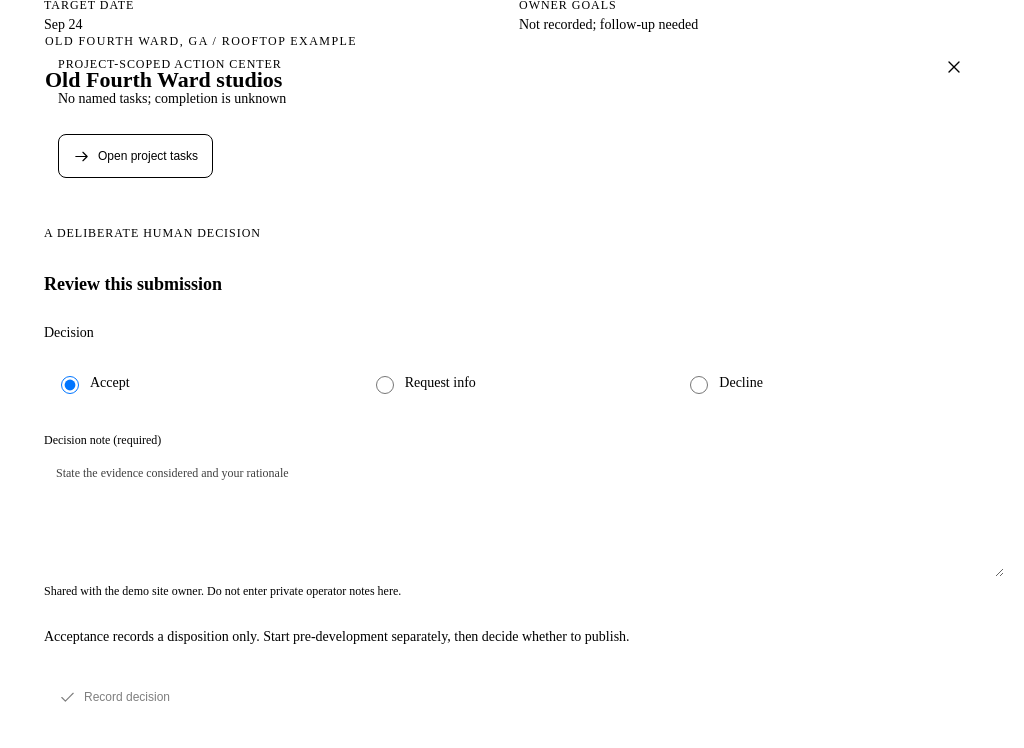
Test: deliberate operator commands › requires a reason for Decline without creating or publishing a project
(page scrolled)
Click the radio button labelled "Decline".
click(699, 385)  # box [690,376,708,394]
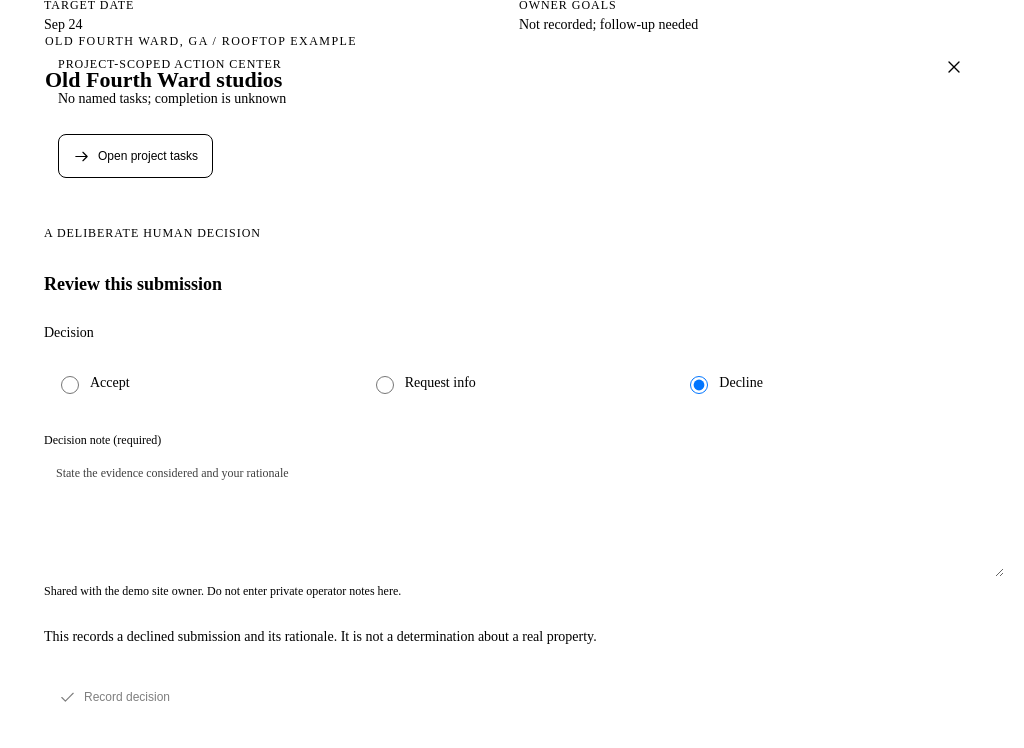
Expected: the button "Record decision" is disabled, [44,676,185,720]
Type "A specific example evidence gap remains." into the text box labelled "Decision note".
click(524, 516); type("A specific example evidence gap remains.")  # box [44,456,1004,578]
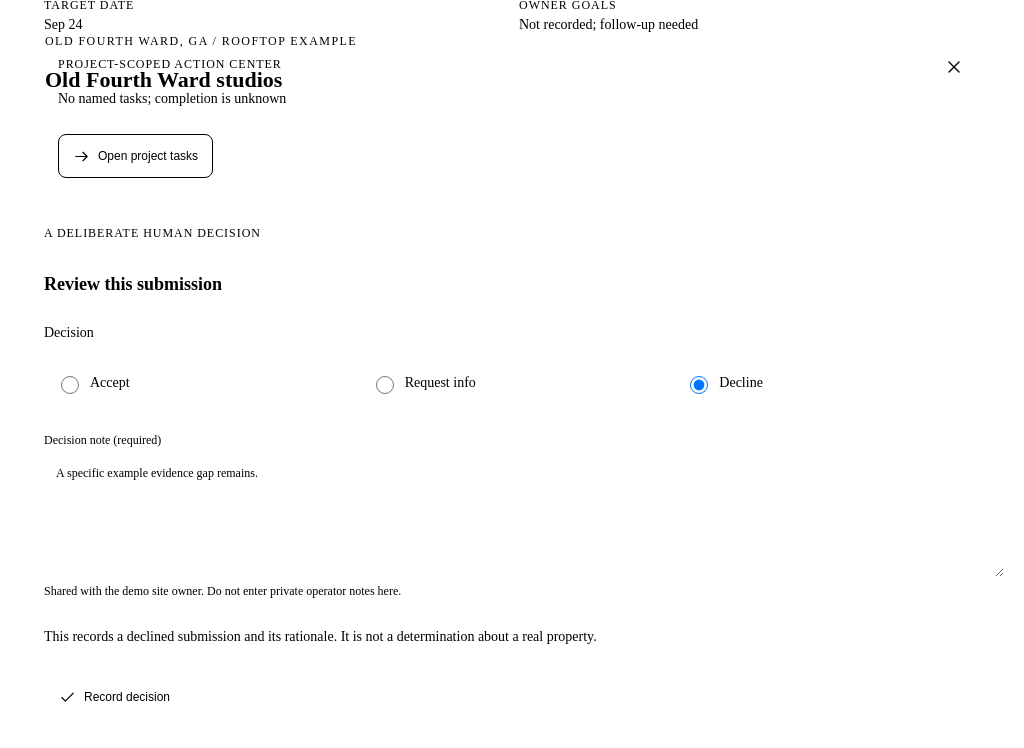
Click the button "Record decision".
click(114, 698)  # box [44,676,185,720]
(page scrolled)
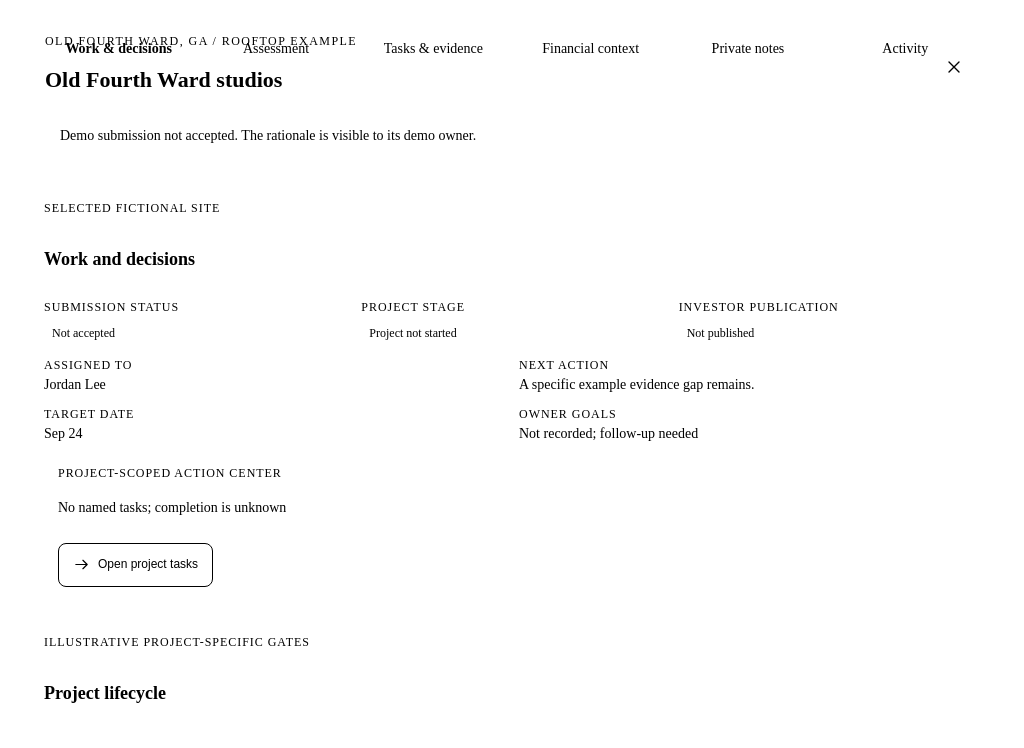
Expected: the text "A specific example evidence gap remains." is shown, [519,377,755,392]
